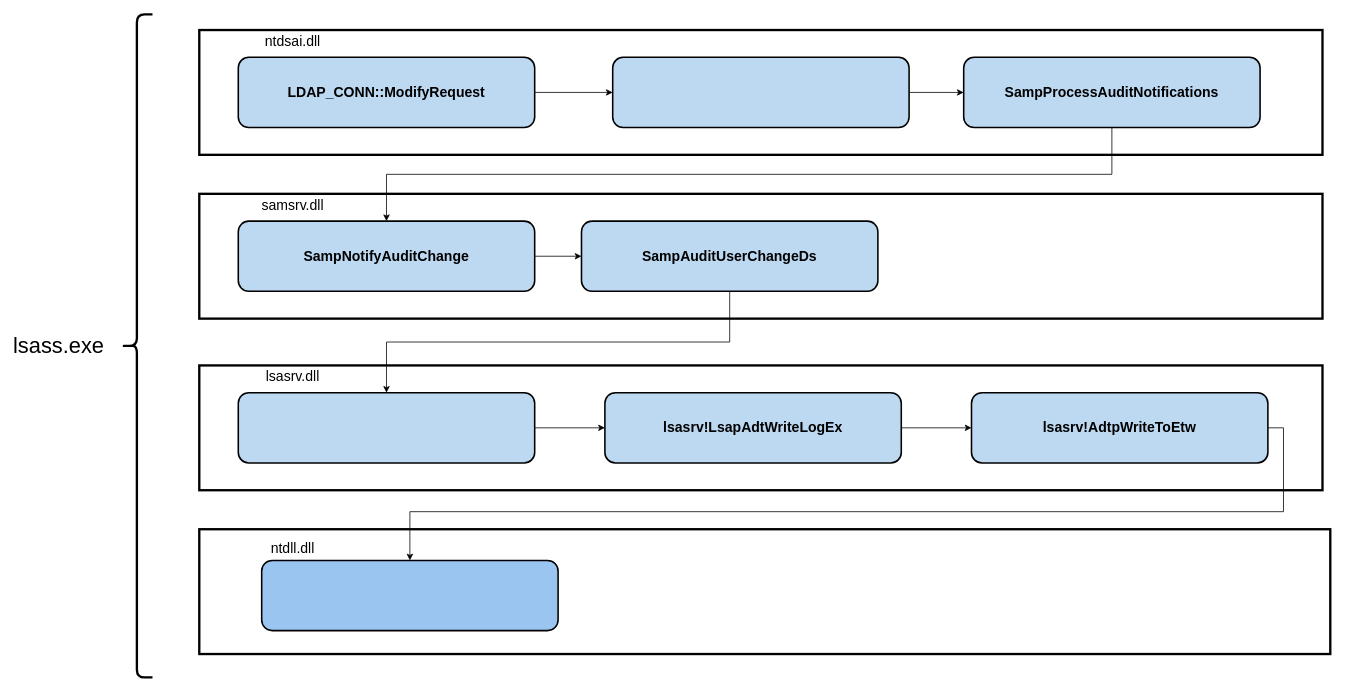
This 1345x692 diagram has some shape labels left out. Here are the shapes that lost their labels. From the top down, the box of each, then its label:
(612, 56, 909, 128): DirModifyEntryNative
(237, 392, 535, 463): lsasrv!LsaIAuditSamEvent
(261, 559, 558, 631): ntdll!EtwWriteUMSecurityEvent
